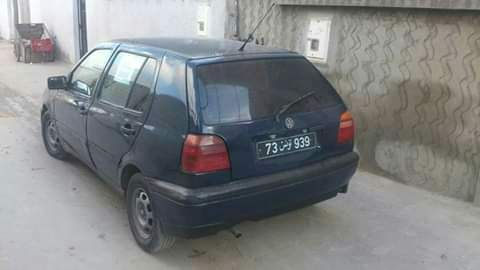LP: (255, 132, 317, 156)
